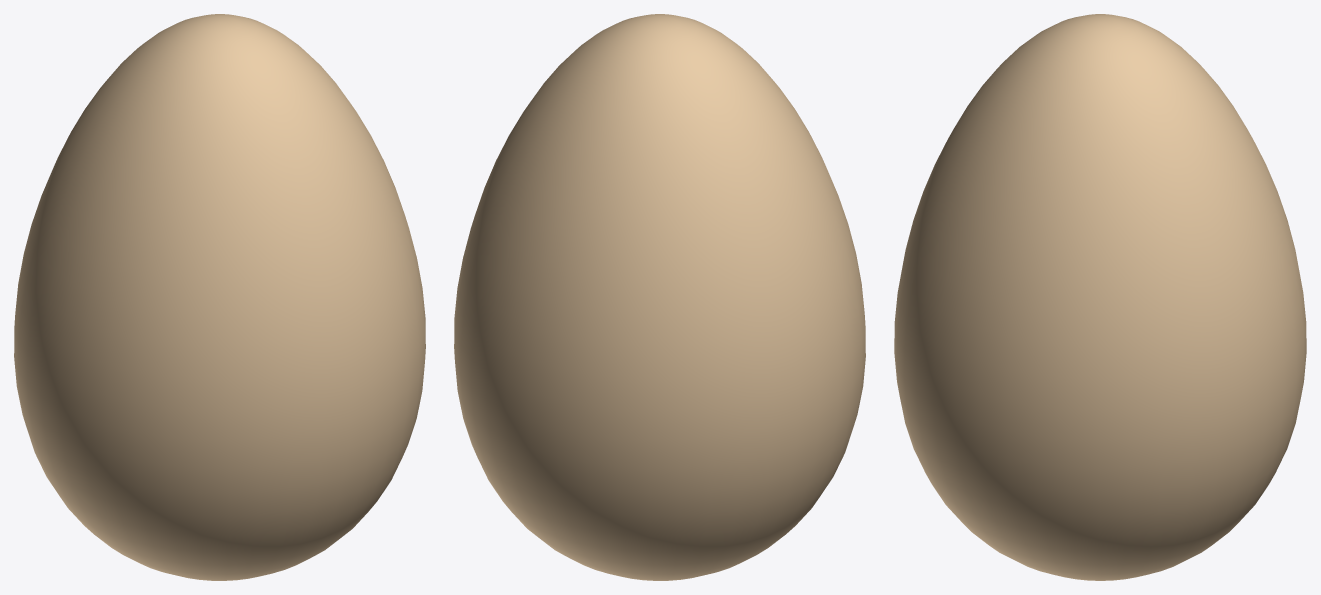
File: egg.glb
The picture shows the model from 3 angles, left to right: view 1: azimuth 30°, elevation 25°; view 2: azimuth 150°, elevation 25°; view 3: azimuth 270°, elevation 25°; orthographic projection.
Parts seen in each view (by area): view 1: egg; view 2: egg; view 3: egg.
Boxes of the visible parts, x1,y1,x2,y2 form: egg: [14, 14, 425, 580]; egg: [454, 14, 865, 580]; egg: [894, 14, 1306, 580].
Bounding box in the file's own units: 0.3557 × 0.514 × 0.3557.
